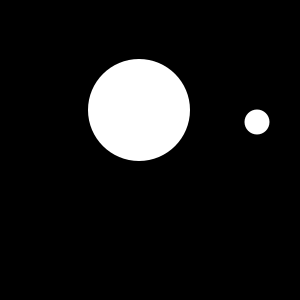rectangle: (88, 59, 190, 161), (245, 110, 270, 134)
